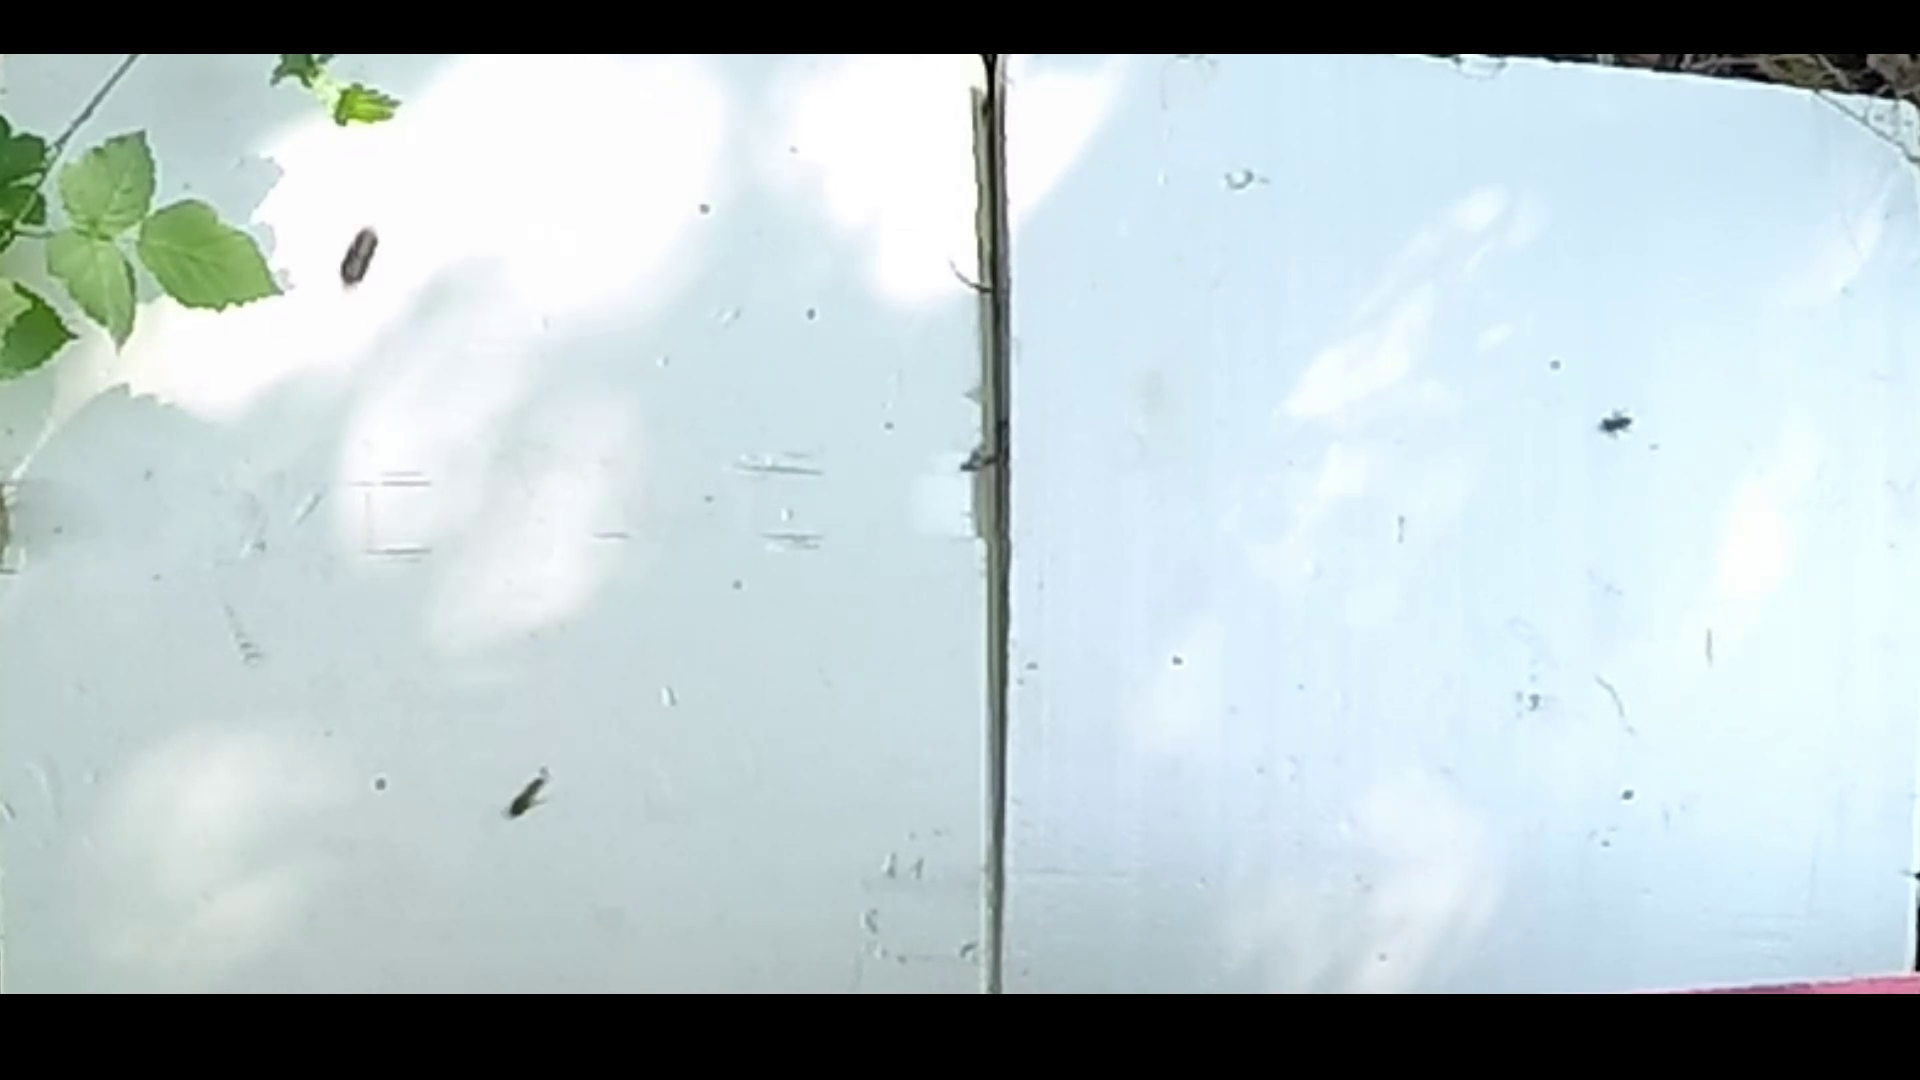Asian_hornets: (318, 203, 384, 302)
